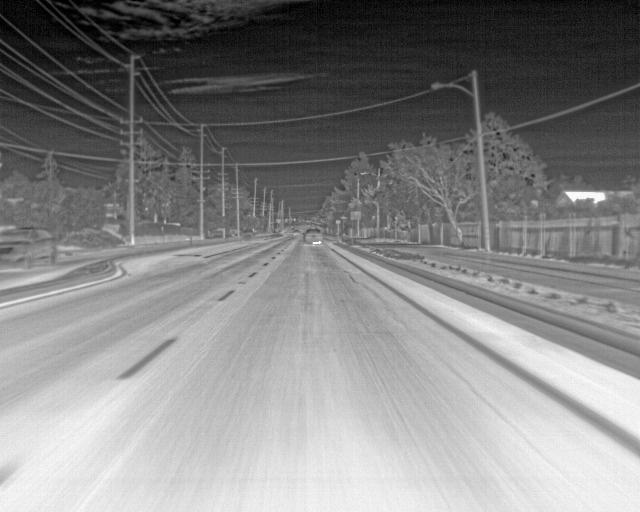car: (0, 224, 55, 269), (303, 228, 322, 246)
